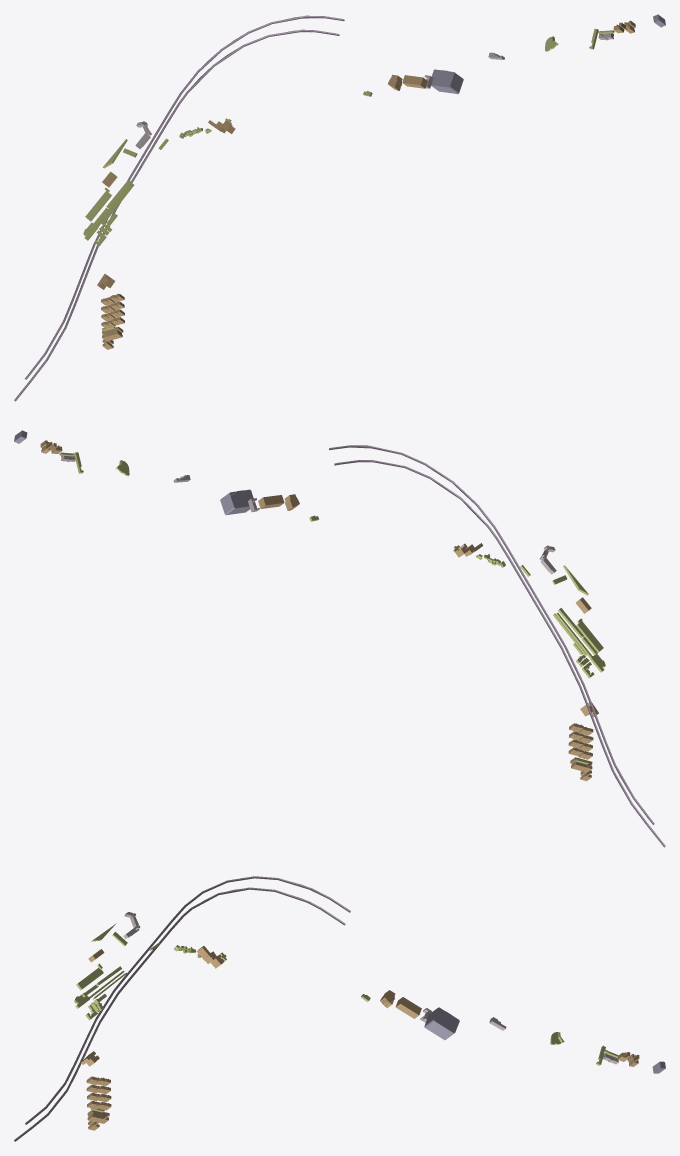
3 views of the same model, one above another, from view 1: azimuth 30°, elevation 25°; view 2: azimuth 150°, elevation 25°; view 3: azimuth 330°, elevation 25° (orthographic). The views are drawn at different scales.
Parts seen in each view (by area): view 1: 0_0_1; view 2: 0_0_1; view 3: 0_0_1.
Boxes of the visible parts, x1=… form: 0_0_1: x1=14, y1=14, x2=665, y2=401; 0_0_1: x1=14, y1=430, x2=665, y2=847; 0_0_1: x1=14, y1=876, x2=665, y2=1141.
Size of the model in its own units: 2056 by 980 by 83.76.
